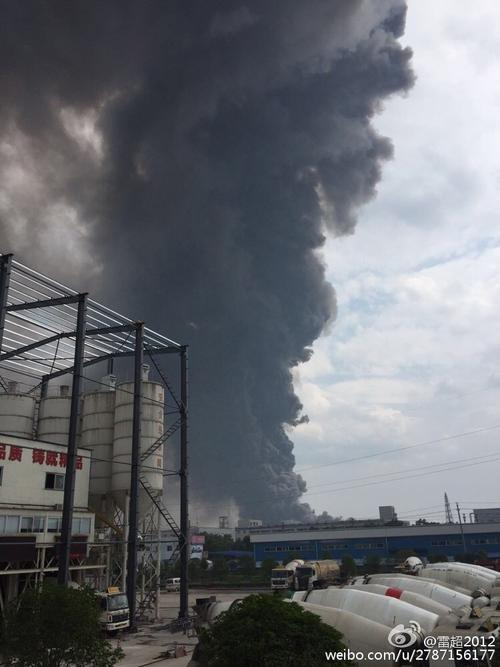smoke: (116, 11, 351, 517)
